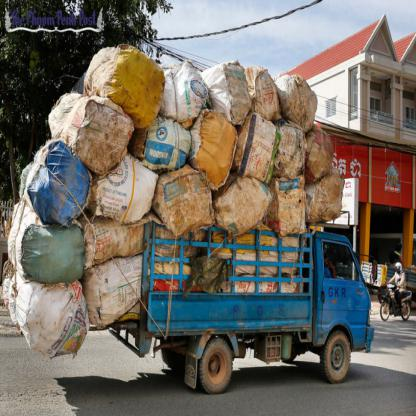overloaded-truck: (8, 46, 341, 342)
